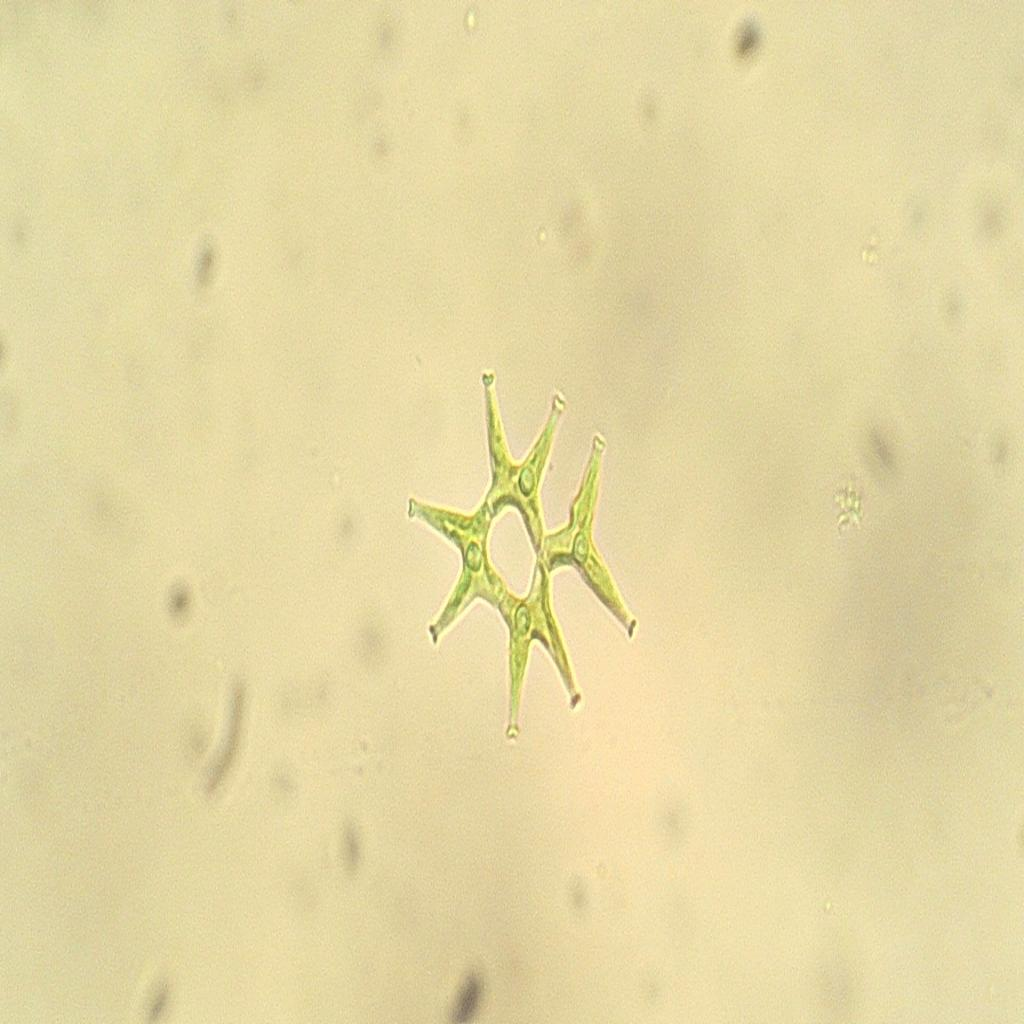Pediastrum_75FI: (400, 349, 648, 756)
